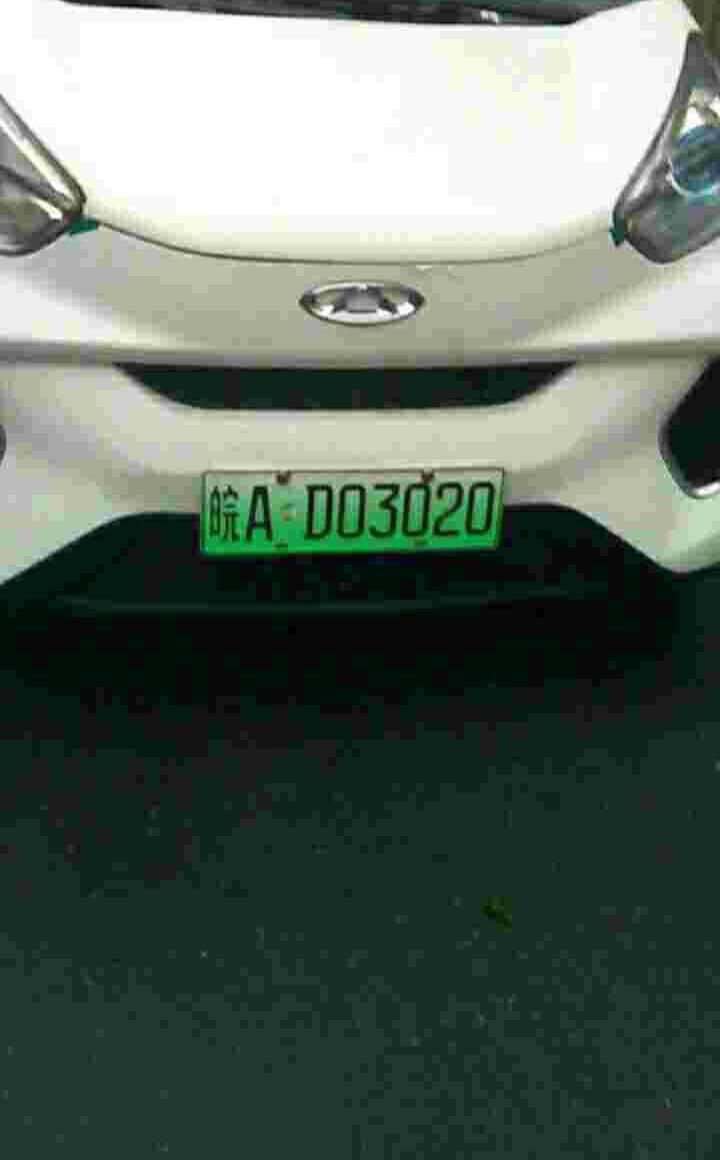car_id: (201, 467, 504, 552)
